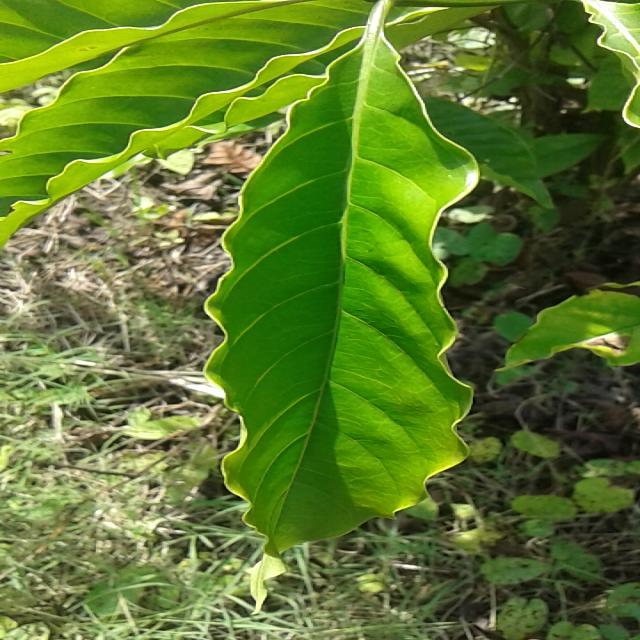Sanas: (201, 0, 481, 558)
